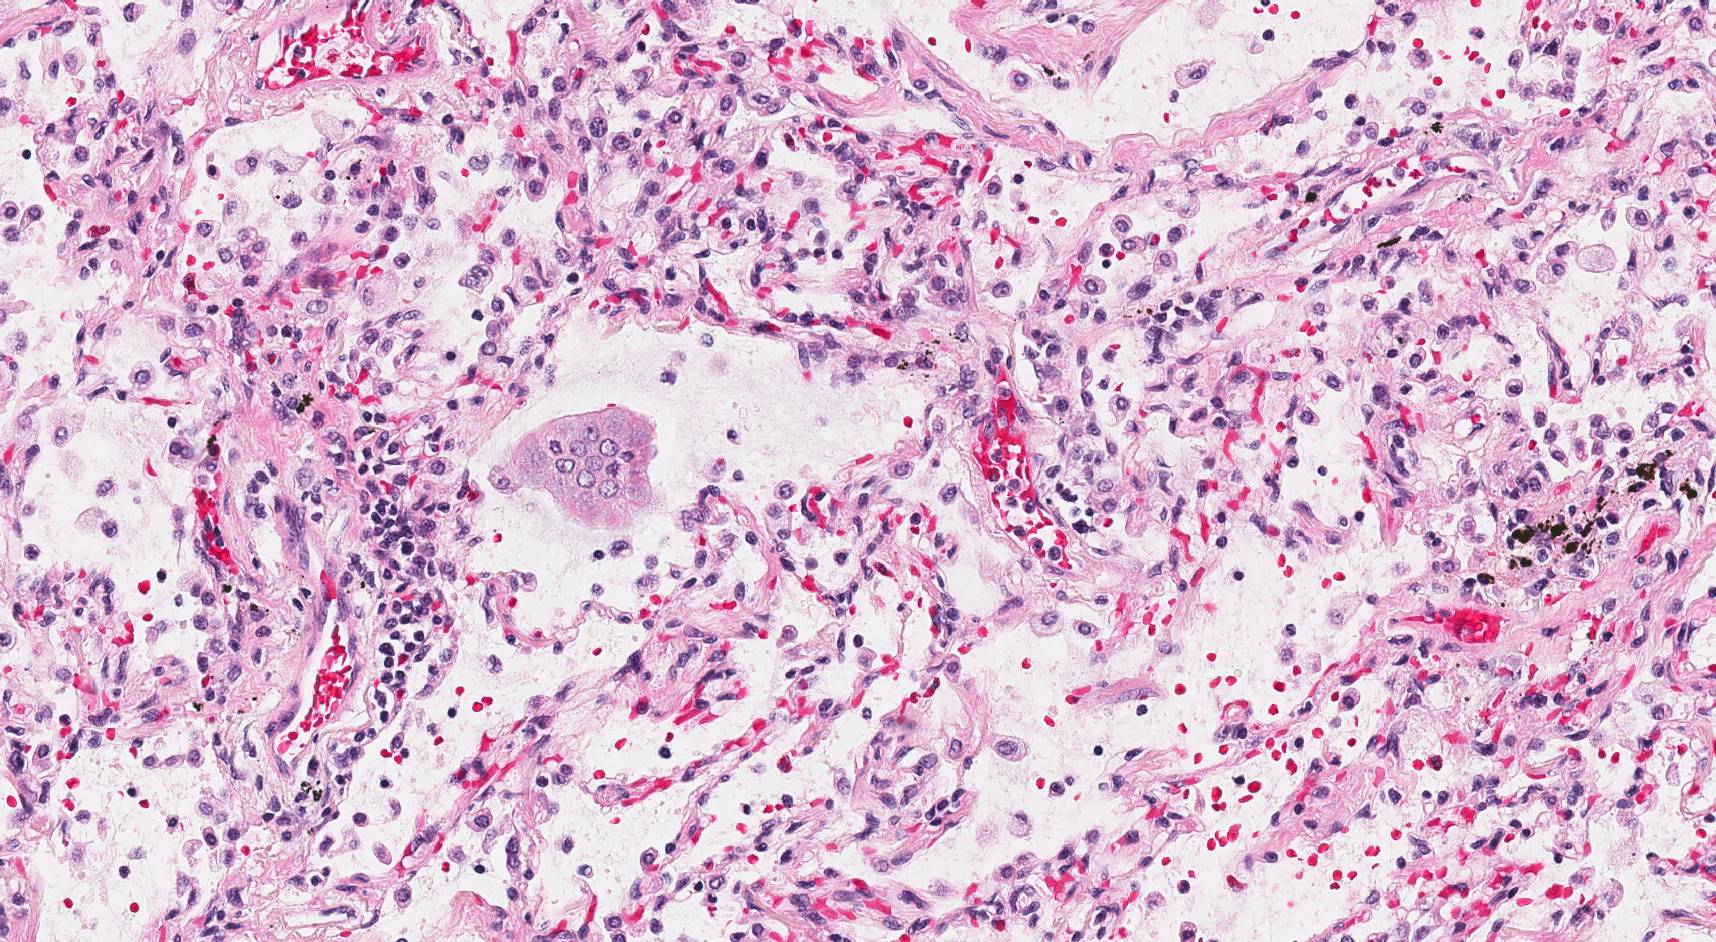stas: (486, 405, 657, 533)
